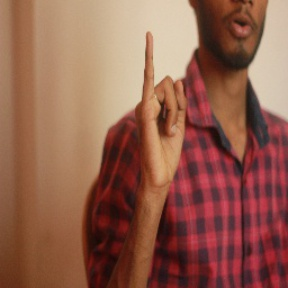I: (135, 30, 187, 186)
